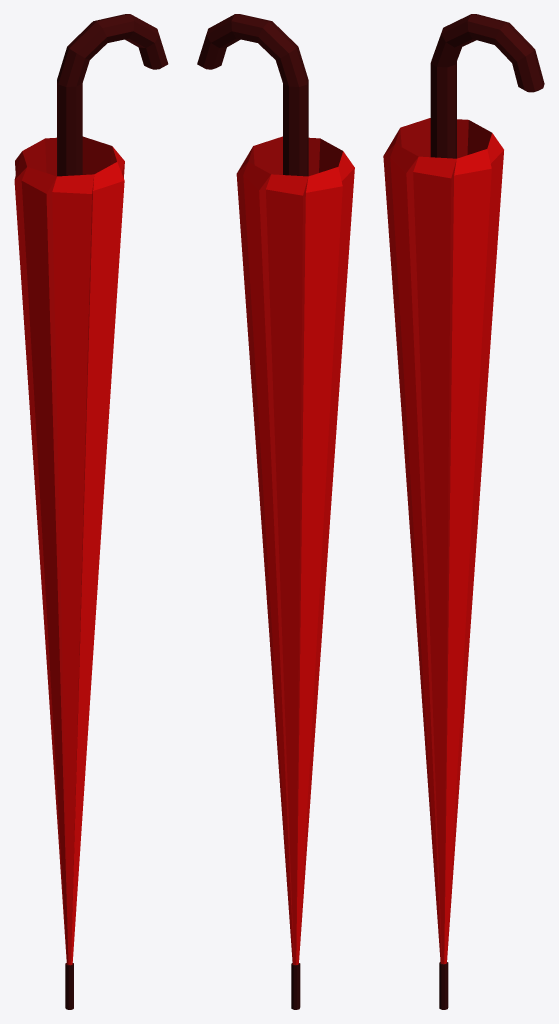
The model's file is Umbrella.001.glb.
The picture shows the model from 3 angles, left to right: view 1: azimuth 30°, elevation 25°; view 2: azimuth 150°, elevation 25°; view 3: azimuth 330°, elevation 25°; orthographic projection. The views are drawn at different scales.
Parts seen in each view (by area): view 1: Umbrella.001; view 2: Umbrella.001; view 3: Umbrella.001.
Boxes of the visible parts, x1=… form: Umbrella.001: x1=14, y1=14, x2=168, y2=1009; Umbrella.001: x1=197, y1=14, x2=354, y2=1009; Umbrella.001: x1=383, y1=14, x2=544, y2=1009.
Size of the model in its own units: 0.8651 by 5.45 by 0.5956.
